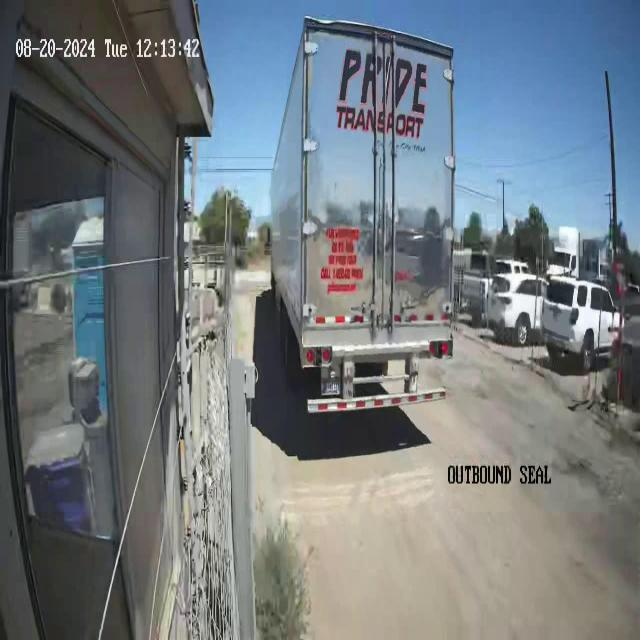TRUCK_OUT: (269, 15, 457, 412)
